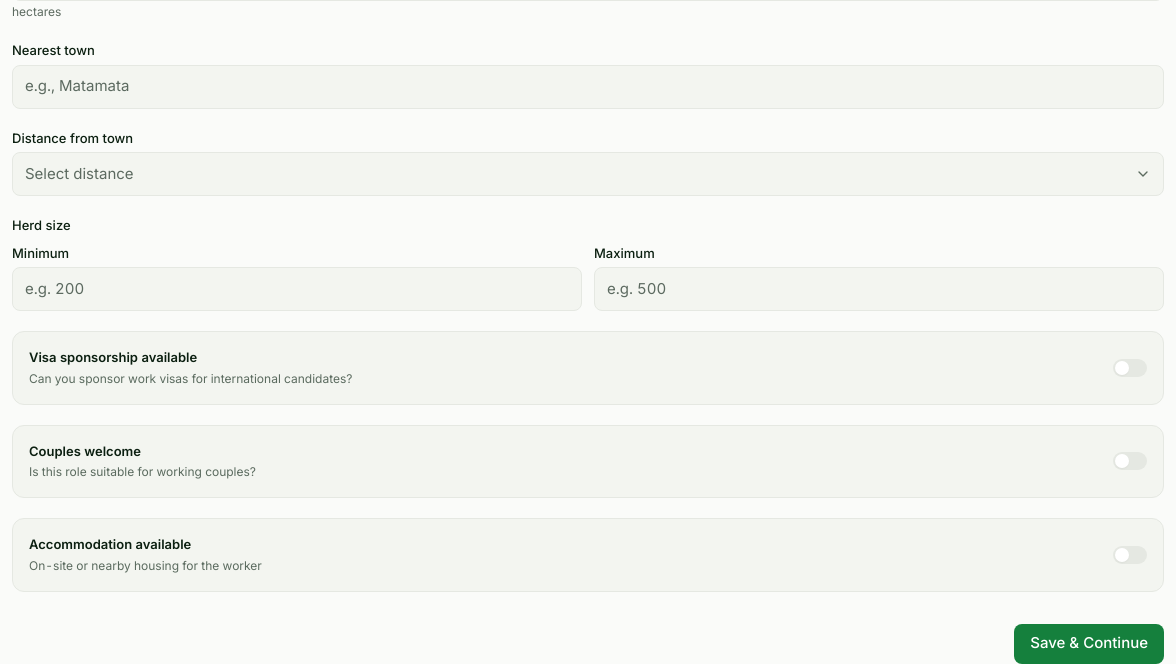
Test: JobStep2FarmDetails — sector gating › still blocks a dairy listing that has no shed type
(page scrolled)
What coordinates should you click on to do the following:
click the button "Save & Continue"
I would click on:
 (1089, 644)
Its box is [1014,624,1164,663].
(page scrolled)
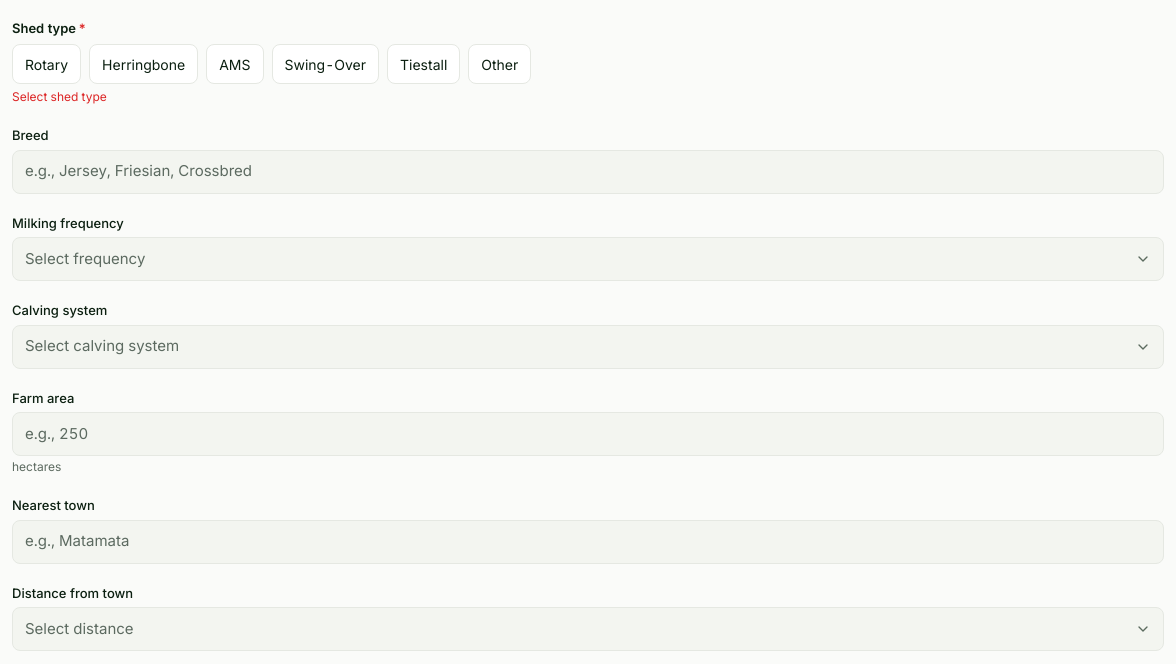
Result: the text "Select shed type" is shown at [12,89,107,104]
